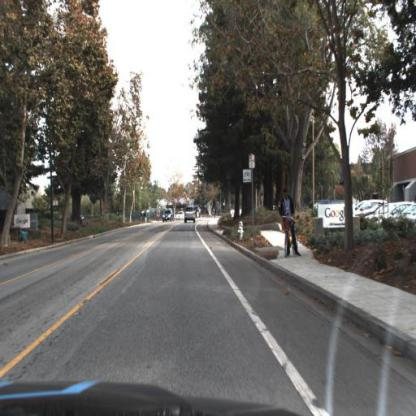biker: (277, 186, 300, 259)
car: (183, 205, 197, 226), (163, 210, 176, 224), (163, 209, 175, 224), (177, 210, 187, 222), (177, 211, 187, 220)
pedestrian: (143, 209, 149, 226), (139, 210, 144, 226)
